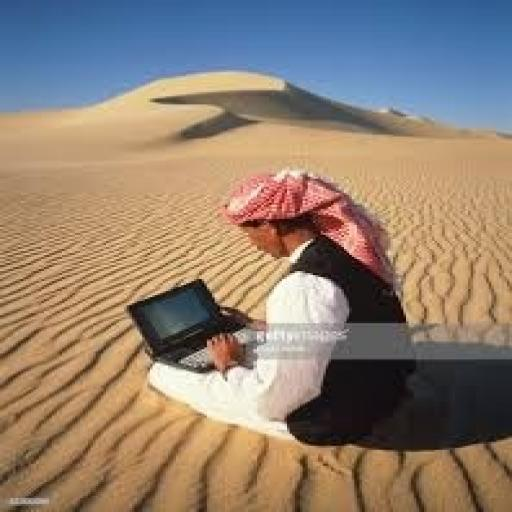using_laptop: (124, 275, 259, 376)
